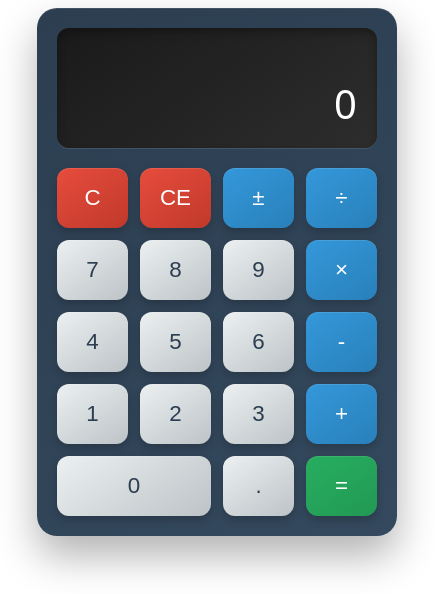
Calculator Component › Dual Display System › shows expression during calculation
The width and height of the screenshot is (435, 594).
Step 1. Click the button "8" → (176, 270), box top-left (140, 240), bottom-right (211, 300)
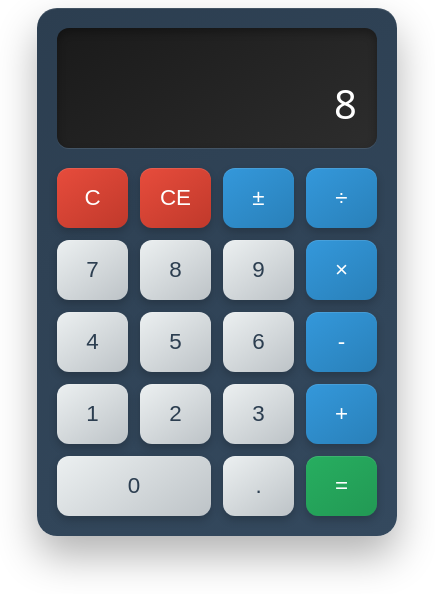
Step 2. Click the button "0" → (134, 486), box top-left (57, 456), bottom-right (211, 516)
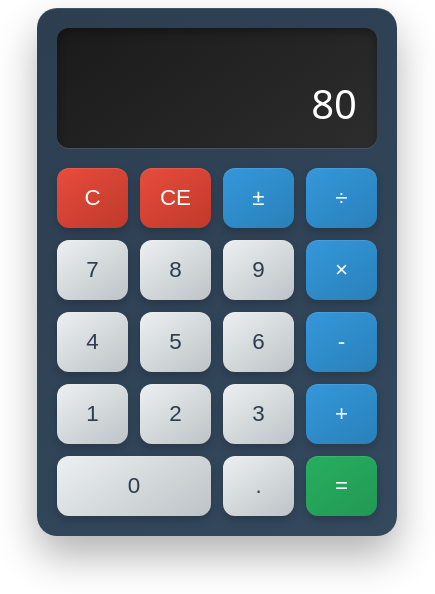
Step 3. Click the button "+" → (342, 414), box top-left (306, 384), bottom-right (377, 444)
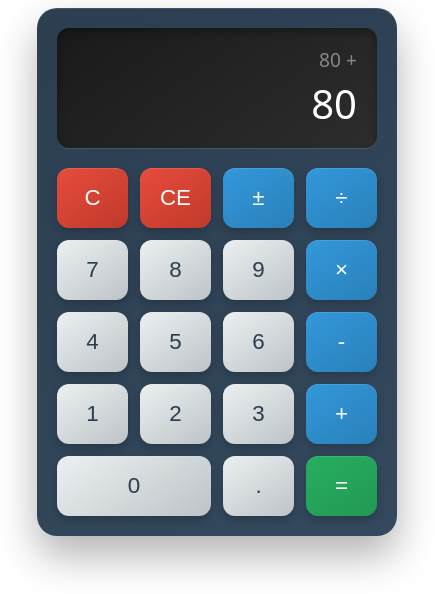
Check: the text "80" is shown, box top-left (311, 76), bottom-right (357, 131)
Check: the text "80 +" is shown, box top-left (319, 46), bottom-right (357, 73)
